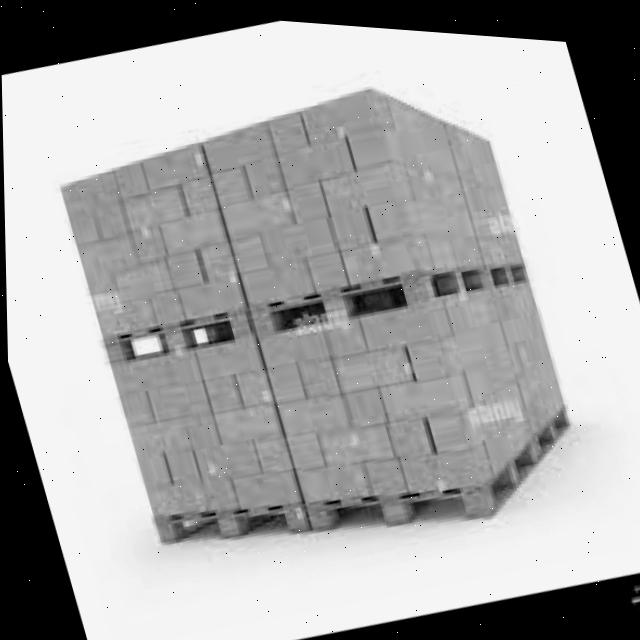bricks: (114, 282, 563, 536), (63, 89, 519, 333)
